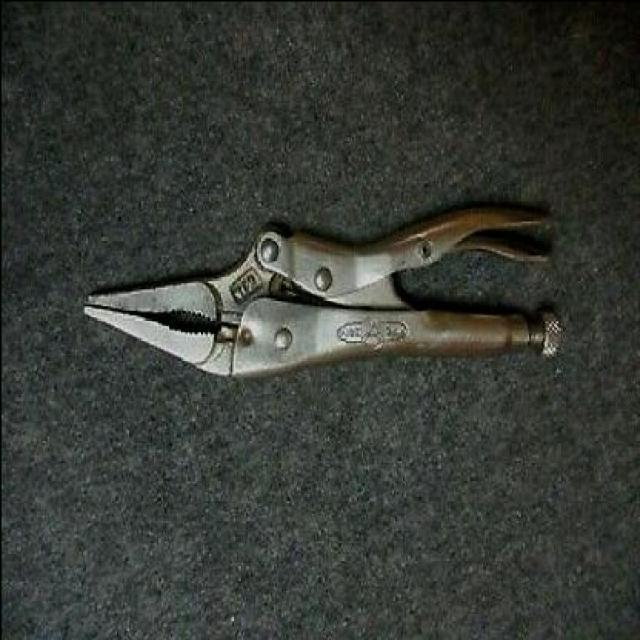pliers: (80, 201, 558, 376)
